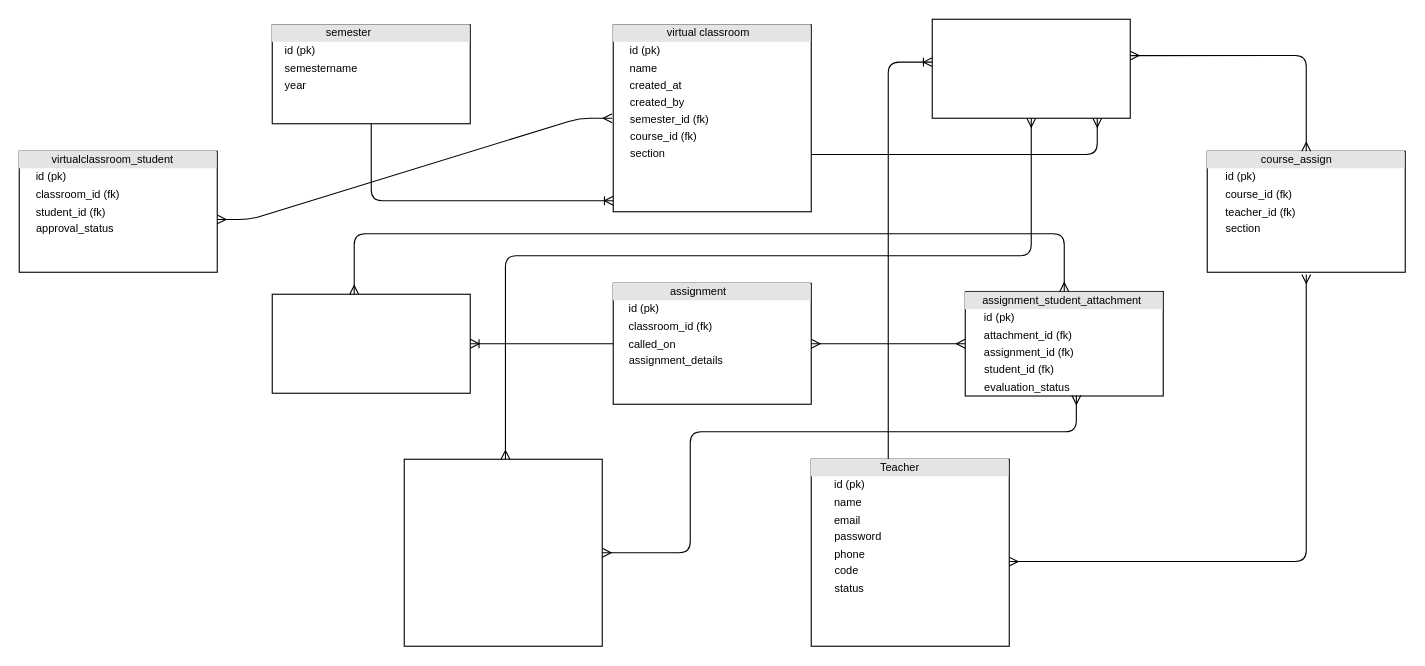
This 1425x666 diagram has some shape labels left out. Each missing label, with the box of its shape:
attachment id (pk) assignment_id (fk) url: (271, 293, 470, 393)
course id (pk) course_name: (931, 18, 1130, 118)
Student id (pk) name email password phone address code status: (403, 458, 602, 646)
